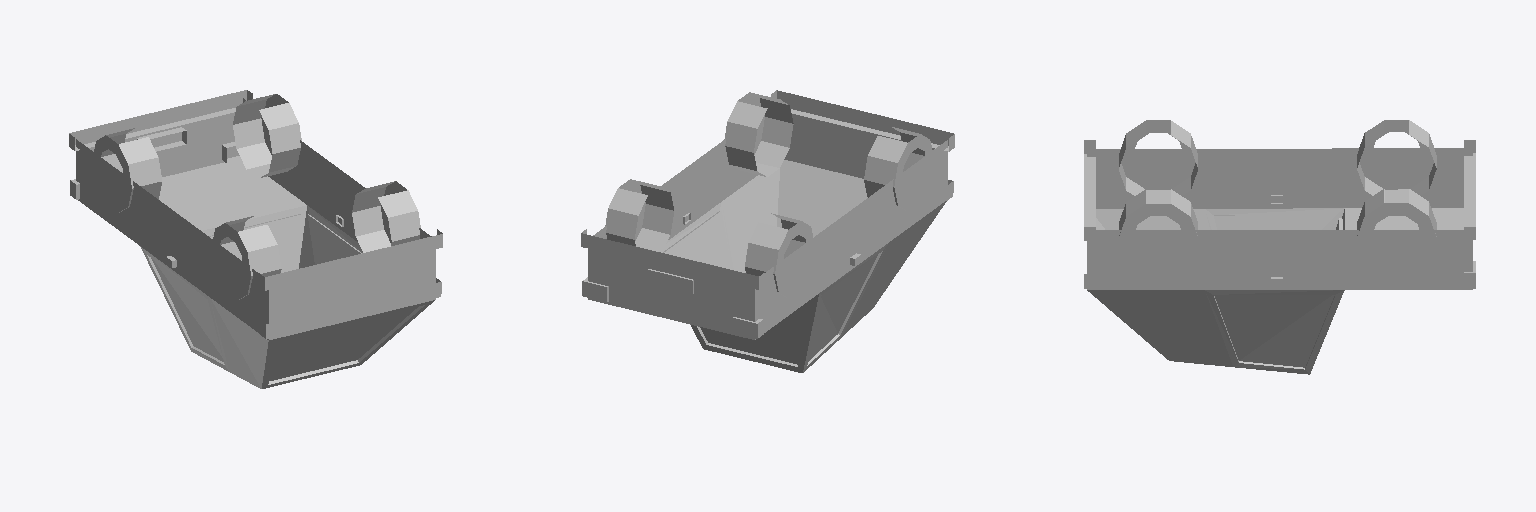
Rendered from low_car_blue.obj.
3 views of the same model, side by side, from view 1: azimuth 30°, elevation 25°; view 2: azimuth 150°, elevation 25°; view 3: azimuth 270°, elevation 25° (orthographic).
Visible parts, largest first — view 1: Cube.001_Cube.002; view 2: Cube.001_Cube.002; view 3: Cube.001_Cube.002.
Boxes of the visible parts, <box> form: Cube.001_Cube.002: <box>69,90,442,388</box>; Cube.001_Cube.002: <box>581,90,954,372</box>; Cube.001_Cube.002: <box>1084,120,1475,374</box>.
Bounding box in the file's own units: 2.13 × 2.16 × 4.06.